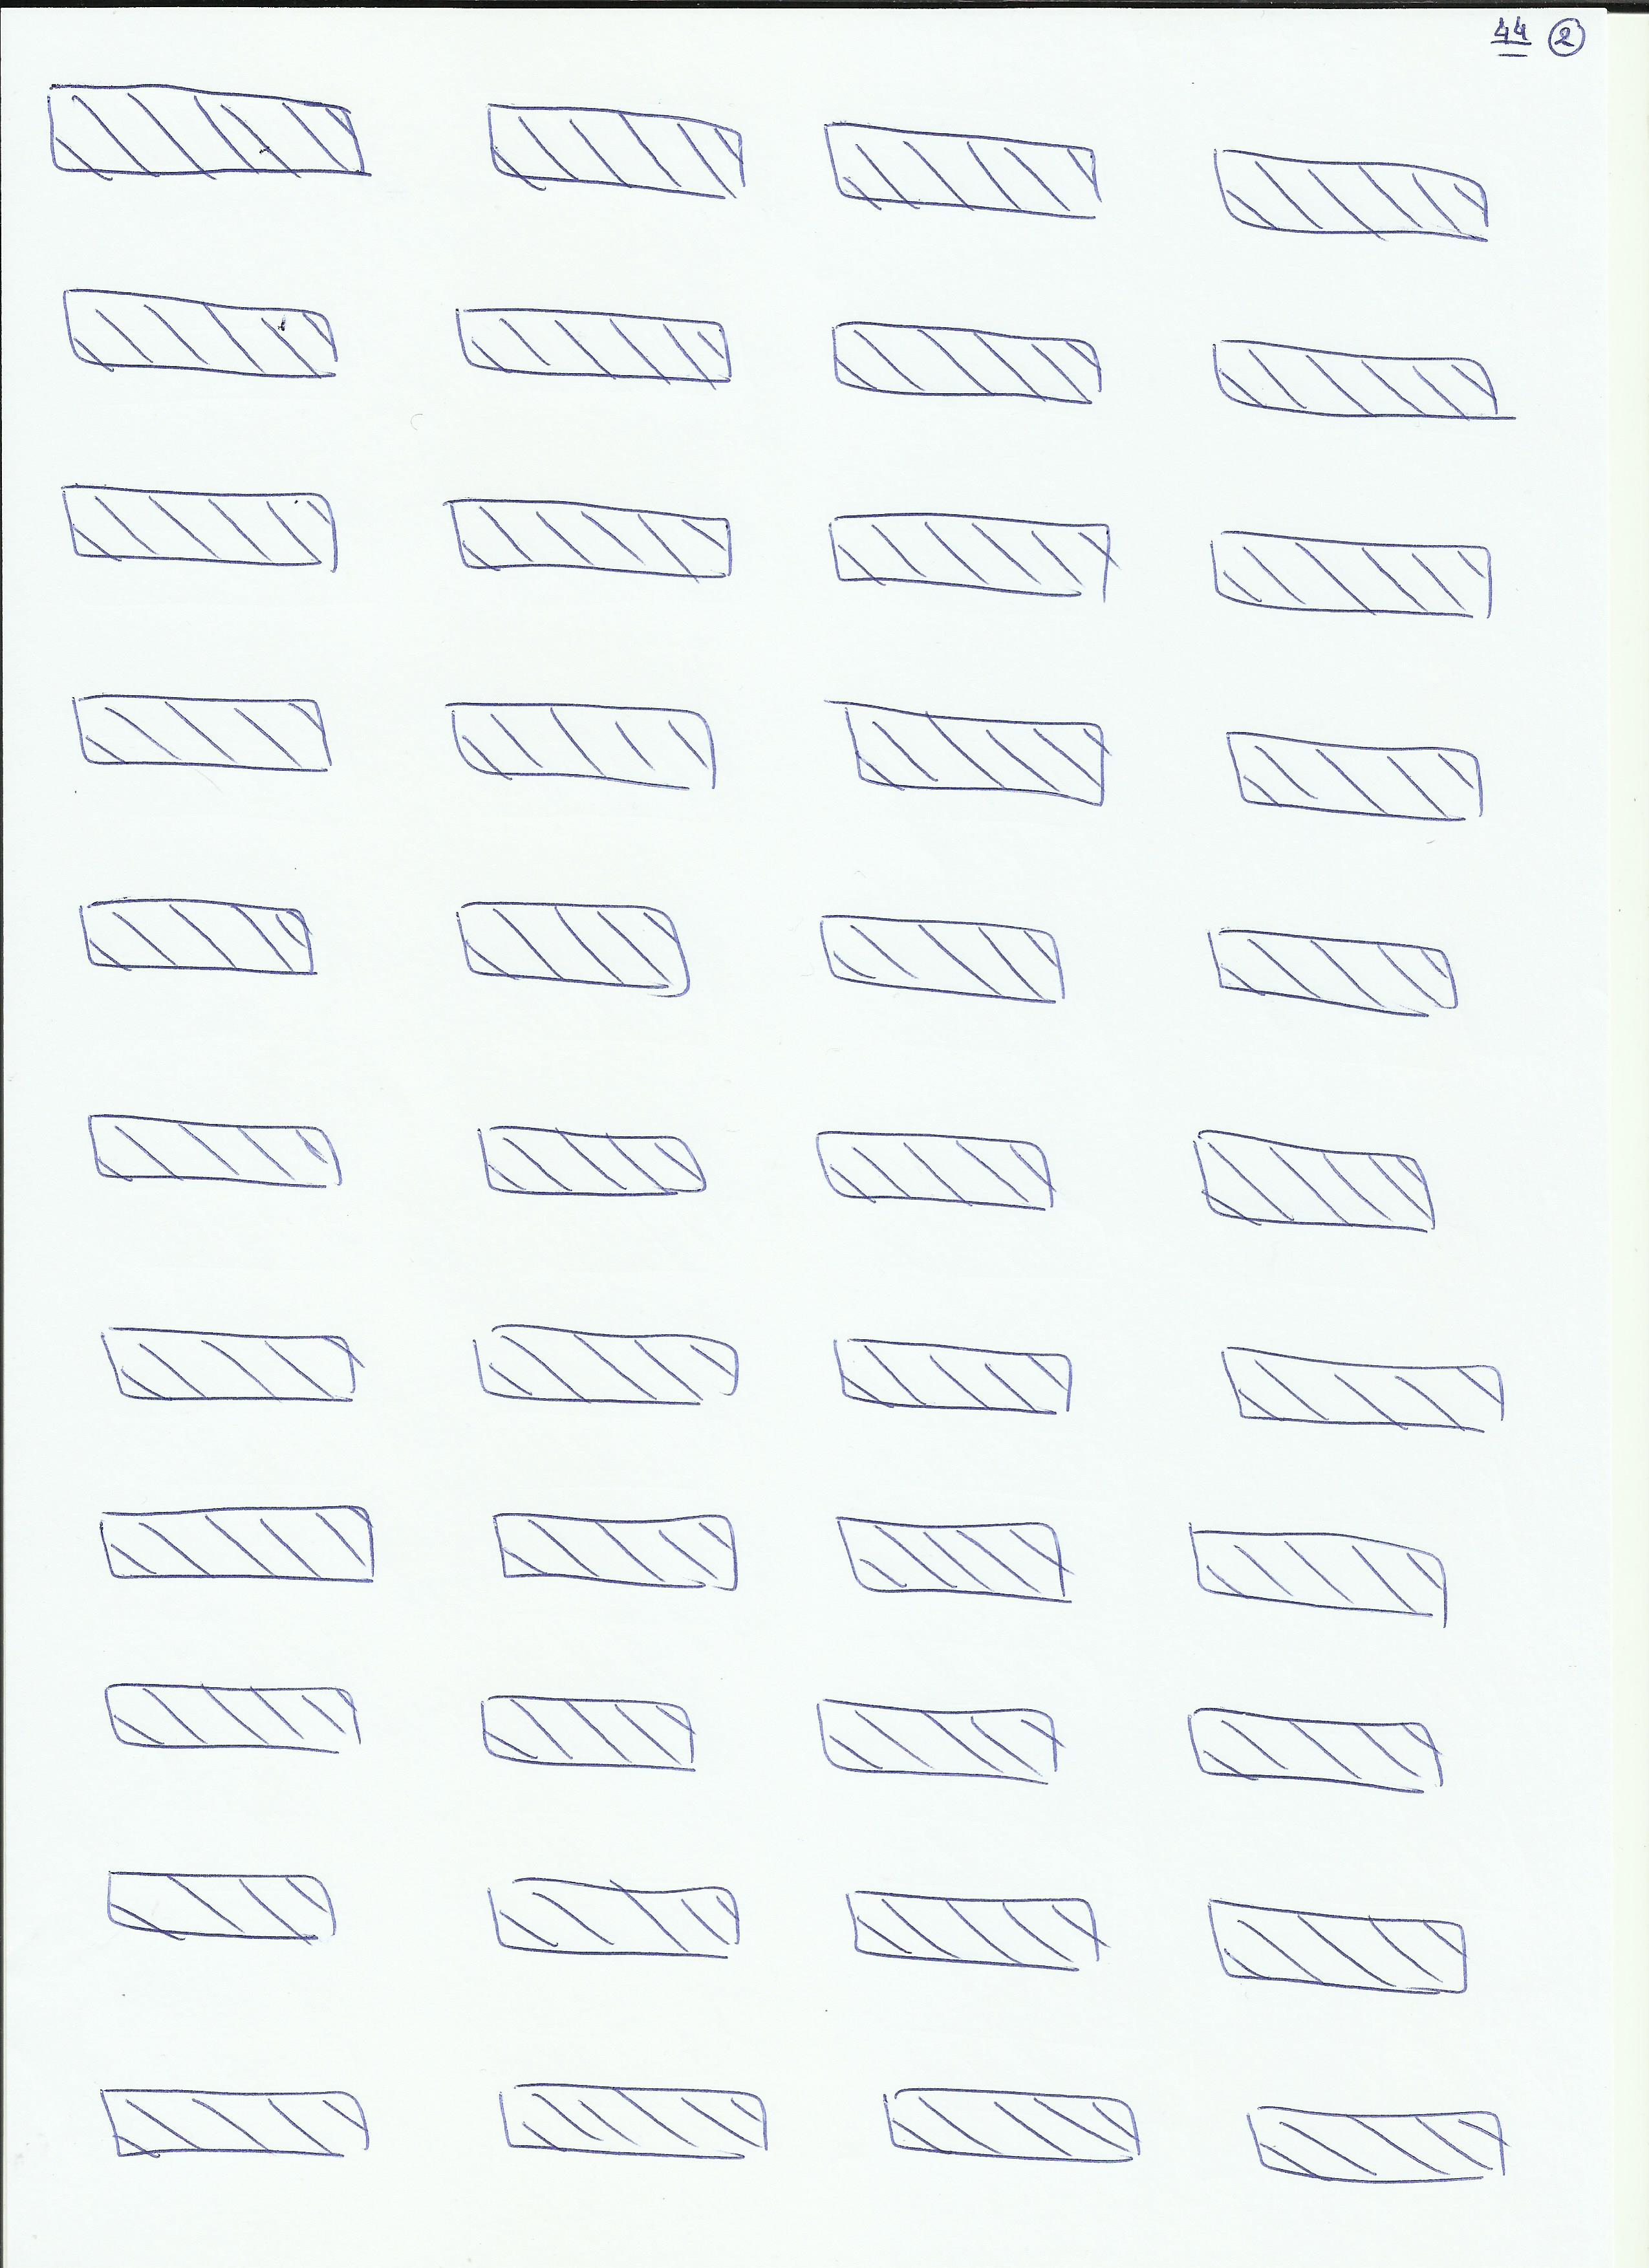frame: (35, 77, 373, 185), (818, 106, 1110, 222), (480, 92, 757, 210), (49, 278, 352, 386), (1200, 527, 1505, 630), (829, 696, 1112, 806), (1207, 143, 1498, 250), (818, 502, 1118, 606), (1195, 921, 1468, 1030), (1186, 1127, 1445, 1241), (438, 692, 722, 796), (1214, 724, 1498, 828), (49, 472, 341, 572), (449, 292, 736, 393), (1202, 1895, 1473, 2000), (1207, 336, 1512, 430), (76, 1497, 380, 1590), (445, 490, 739, 585), (1193, 1521, 1461, 1625), (1225, 1342, 1512, 1439), (452, 889, 697, 1000), (825, 313, 1110, 409), (70, 1101, 345, 1199), (477, 1317, 746, 1417), (811, 907, 1070, 1011), (808, 1690, 1066, 1791), (1193, 1701, 1452, 1801), (495, 2074, 773, 2168), (56, 688, 341, 778), (808, 1116, 1059, 1217), (104, 1673, 366, 1766), (100, 1321, 366, 1410), (484, 1507, 750, 1597), (1239, 2101, 1515, 2187), (825, 1328, 1081, 1421), (484, 1874, 746, 1963), (70, 889, 320, 983), (836, 1884, 1105, 1970), (876, 2078, 1135, 2168), (477, 1113, 711, 1210), (822, 1511, 1074, 1601), (97, 2083, 373, 2161), (470, 1687, 697, 1777), (100, 1867, 341, 1946)
